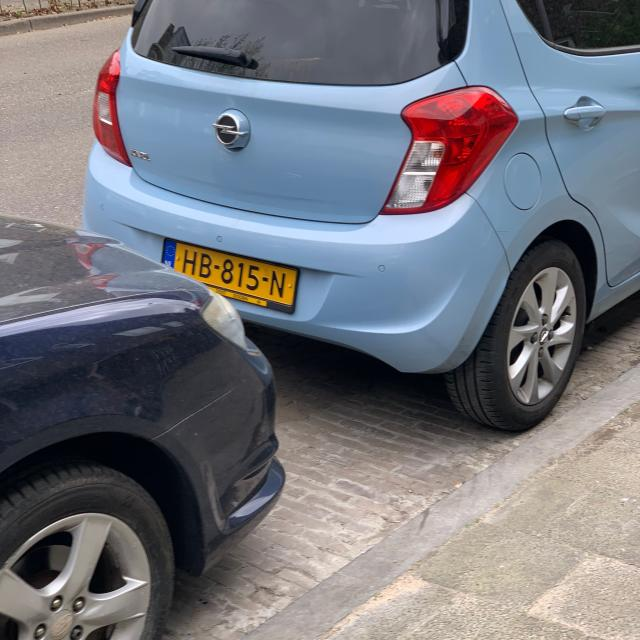plate: (160, 236, 299, 314)
